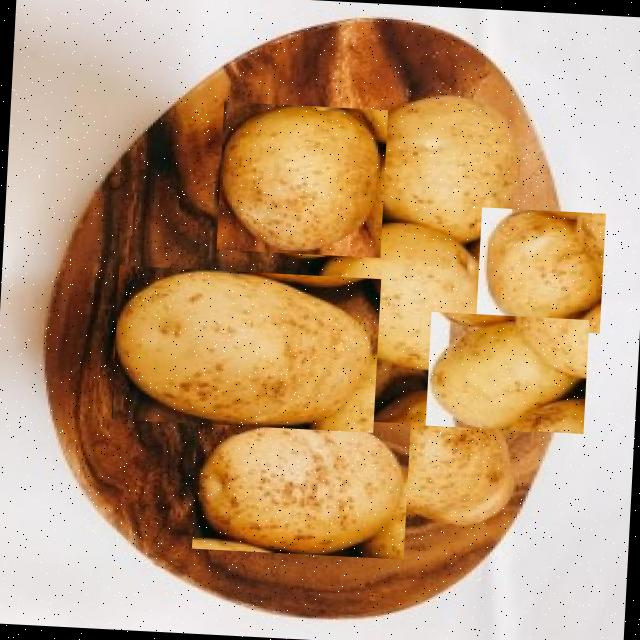Potato: (111, 264, 382, 432), (192, 412, 411, 558), (314, 216, 509, 376), (216, 101, 388, 257), (358, 382, 524, 530), (368, 89, 524, 246), (426, 311, 590, 433), (476, 206, 606, 332)
